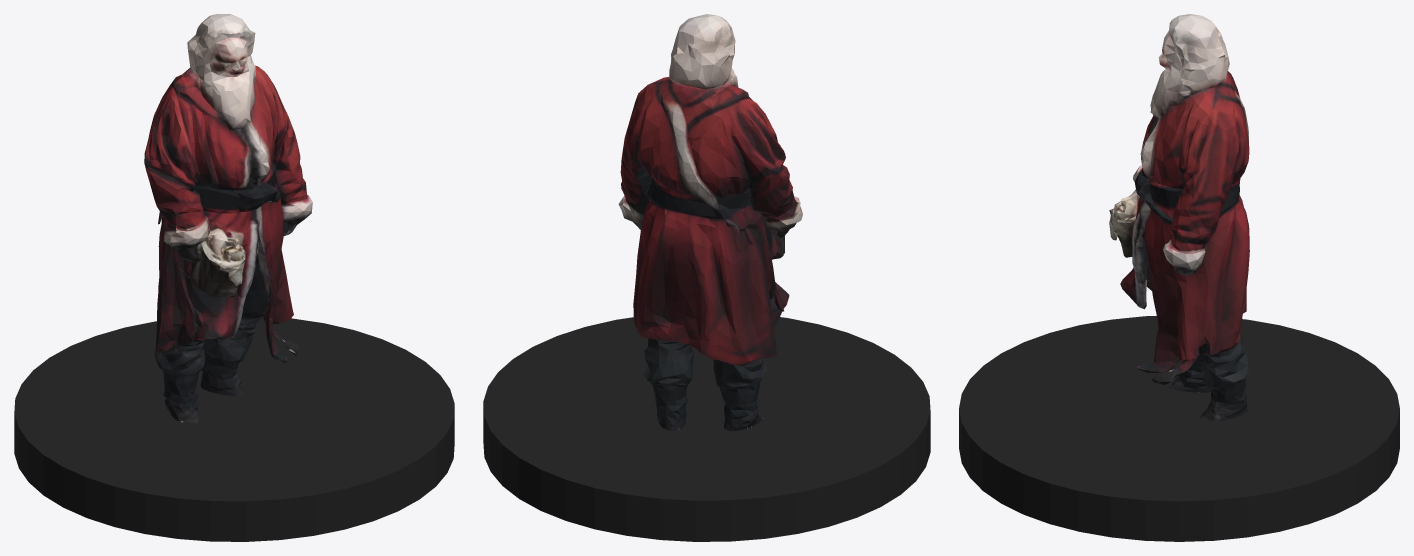
Rendered from forest-plum.glb.
3 views of the same model, side by side, from view 1: azimuth 30°, elevation 25°; view 2: azimuth 150°, elevation 25°; view 3: azimuth 270°, elevation 25° (orthographic).
Visible parts, largest first — view 1: base, figure; view 2: base, figure; view 3: base, figure.
Part boxes in pixels (x1,y1,x2,y2): base: (14, 318, 454, 541); figure: (144, 14, 312, 423); base: (483, 317, 930, 541); figure: (618, 14, 802, 431); base: (959, 315, 1399, 541); figure: (1109, 14, 1249, 421).
Bounding box in the file's own units: 1.18 × 1.27 × 1.18.
Materials: 2 (1 with a texture image).
